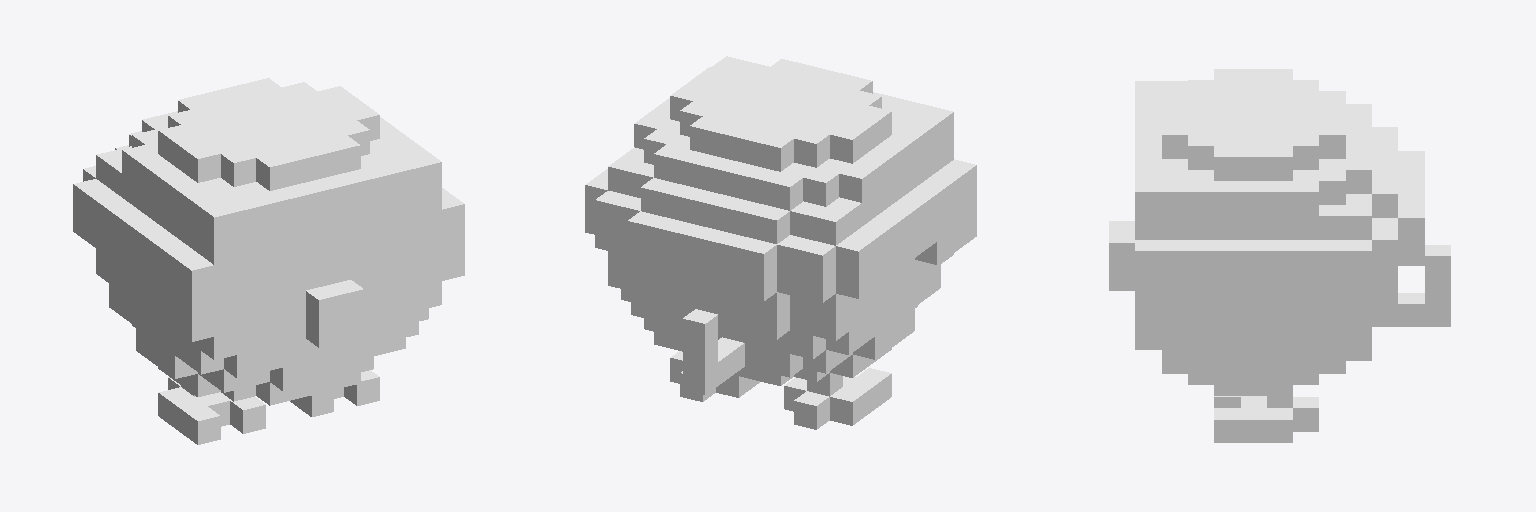
The model's file is PookaWalk1Cardinal.obj.
3 renders of one model, left to right at view 1: azimuth 30°, elevation 25°; view 2: azimuth 150°, elevation 25°; view 3: azimuth 270°, elevation 25°, orthographic.
Parts seen in each view (by area): view 1: object 1; view 2: object 1; view 3: object 1.
Boxes of the visible parts, x1,y1,x2,y2 form: object 1: [73, 78, 464, 444]; object 1: [585, 56, 976, 429]; object 1: [1109, 69, 1450, 442].
Size of the model in its own units: 1.2 by 1.2 by 1.3.